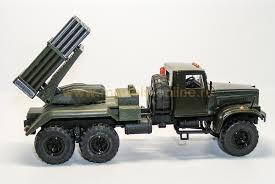MIL_SAM_TEL: (15, 15, 261, 166)
